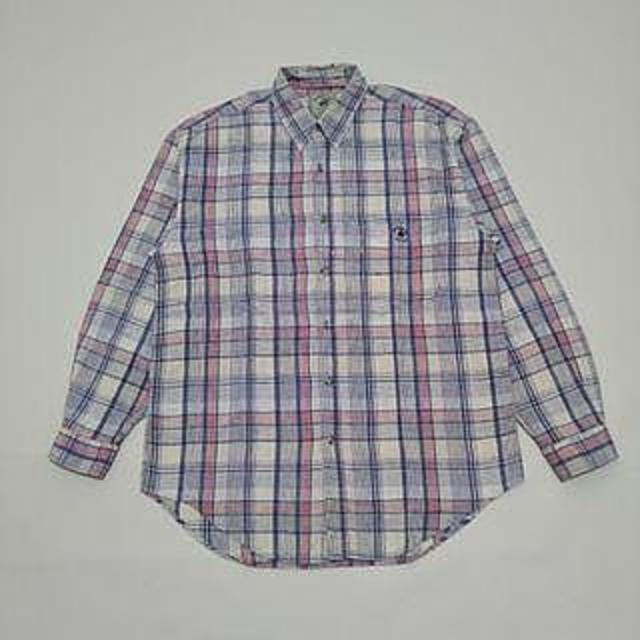SHIRT: (43, 60, 624, 584)
